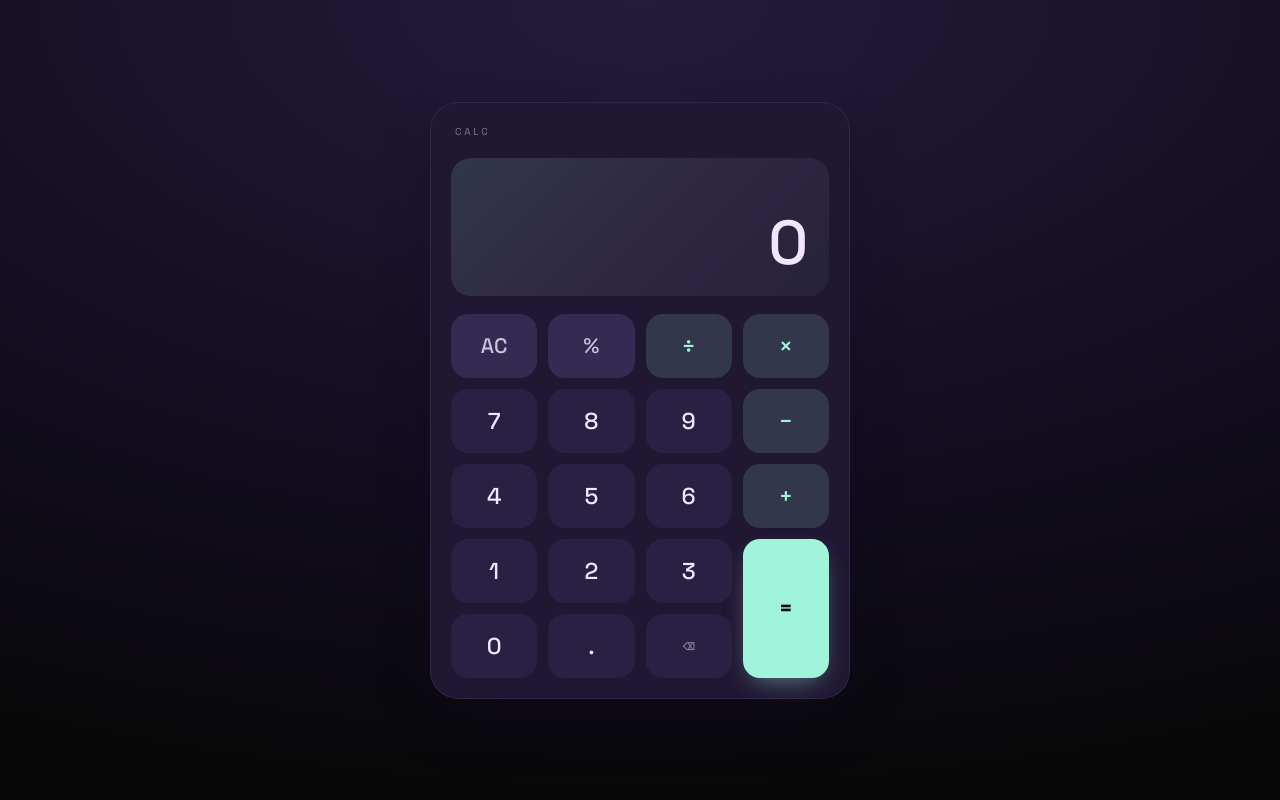
digit entry, backspace, and clear › backspace removes the last digit
The image size is (1280, 800).
Click the button "1". click: (494, 570)
box: [451, 538, 537, 602]
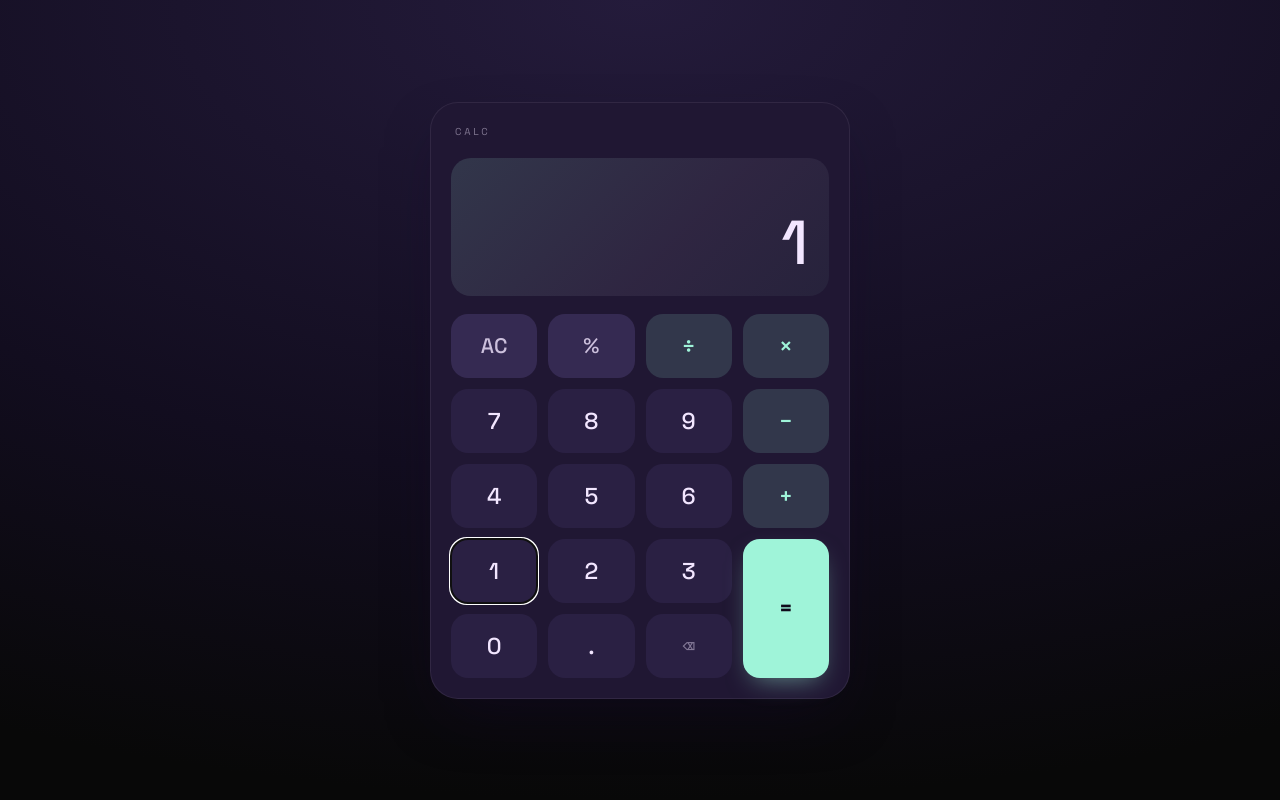
Click the button "2". click: (591, 570)
box: [548, 538, 635, 602]
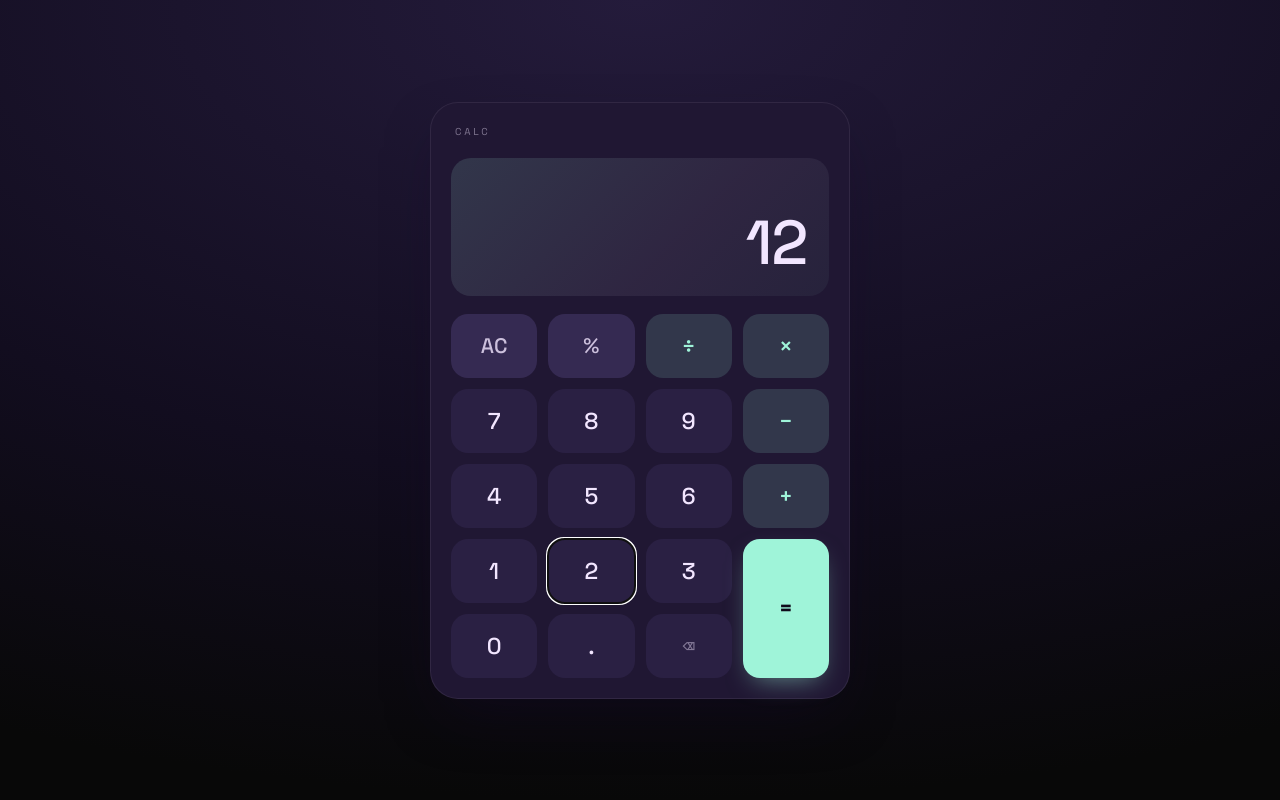
Click the button named "Backspace". click: (689, 646)
box: [646, 614, 732, 678]
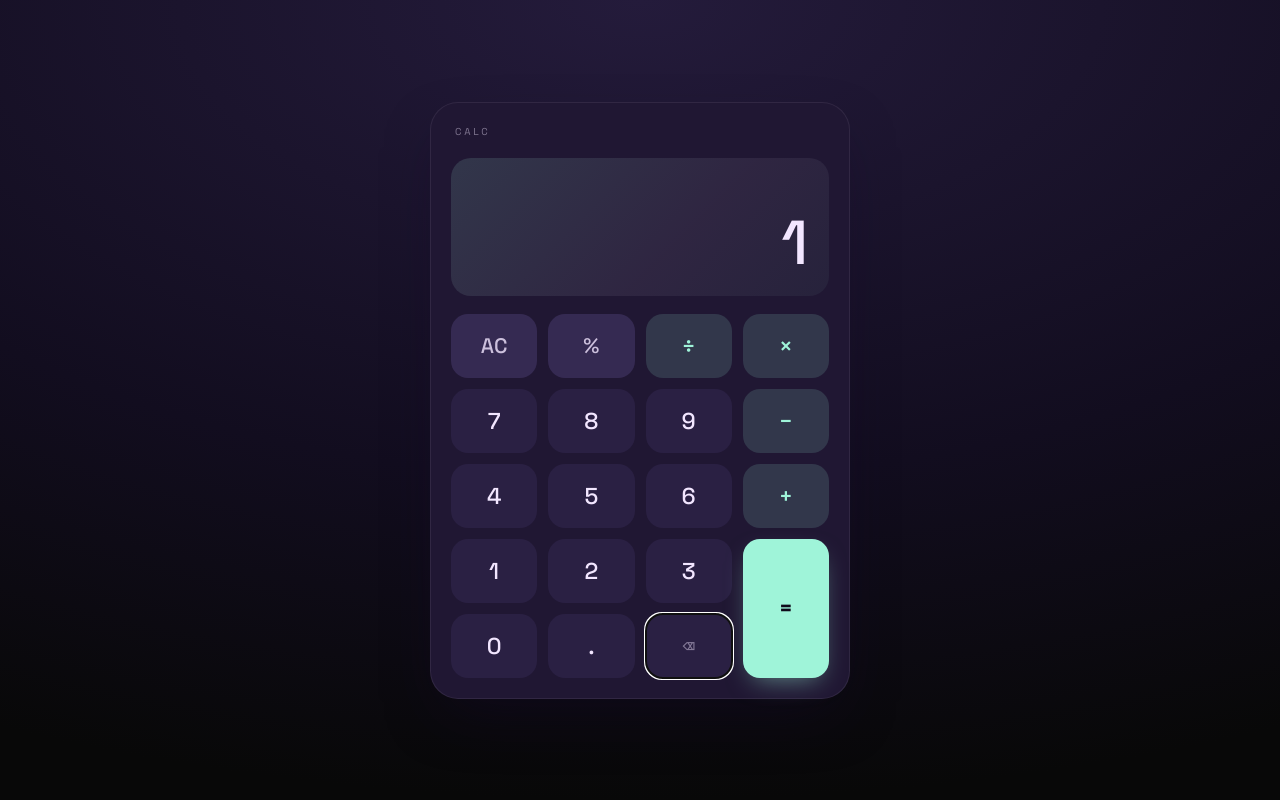
Expected: the text with test id "result" reads "1", [781, 202, 807, 282]
